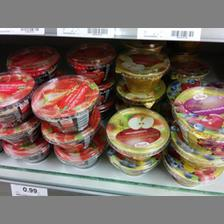Marmelade: (29, 74, 98, 132), (106, 105, 170, 161), (171, 84, 223, 152), (116, 49, 168, 93), (0, 71, 32, 129)
